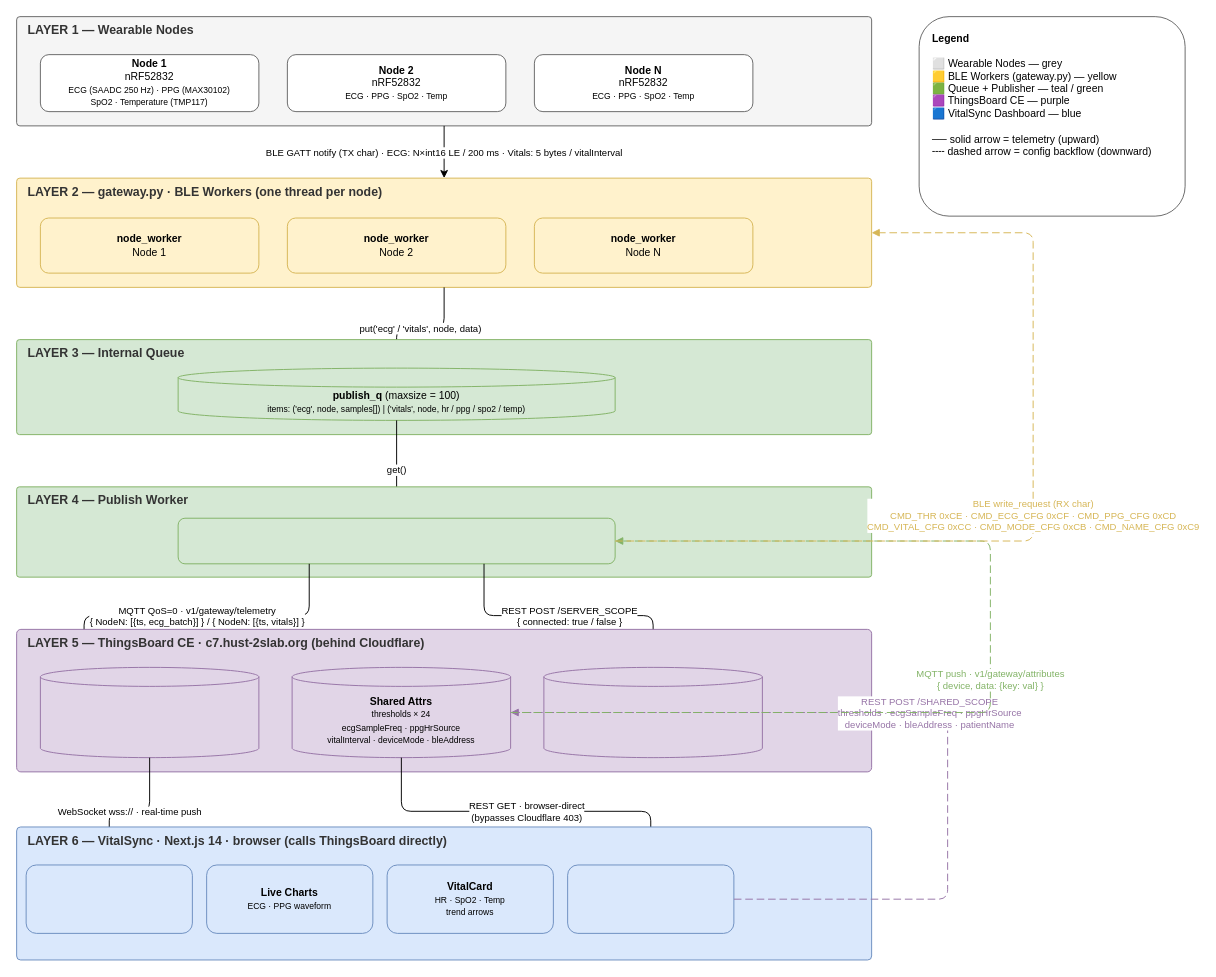
The diagram is 1216 pixels wide and 977 high, and some of its shapes have lost their labels. Here are the shapes that lost their labels. From the top down, the centre of each, then its label:
At [396,540]: "publish_worker (daemon thread)".
At [149,712]: "Time-series DB ecg_batch ecgHeartRate · ppgHeartRate spo2 · temperature".
At [652,712]: "Server Attrs connected patientName".
At [108,898]: "useTbWebSocket WebSocket wss:// 60 fps flush loop".
At [650,898]: "settings.js Config UI".
